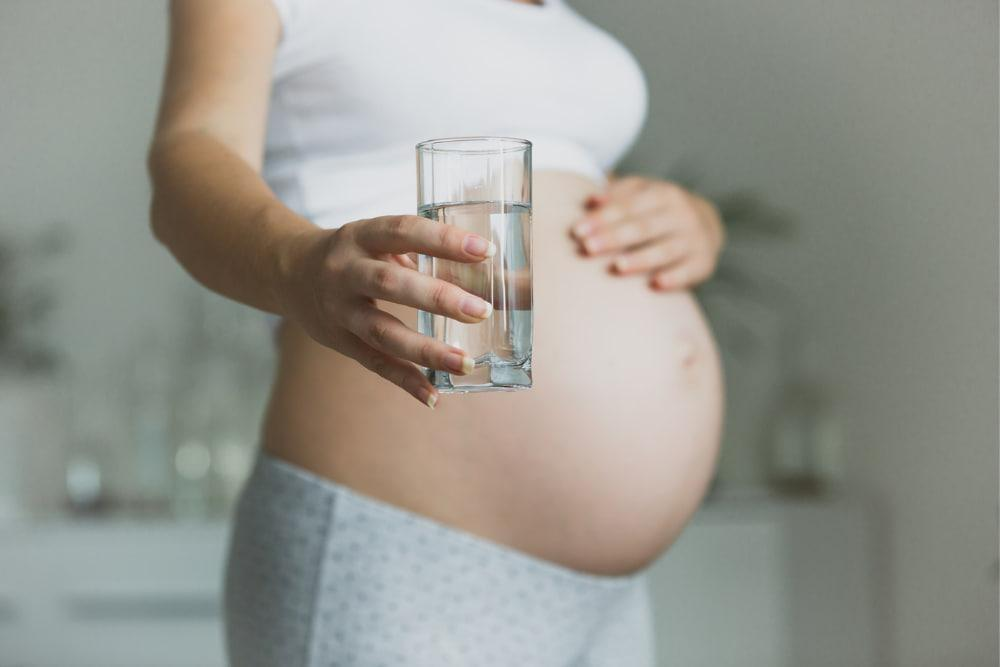glass-normal: (413, 132, 538, 392)
